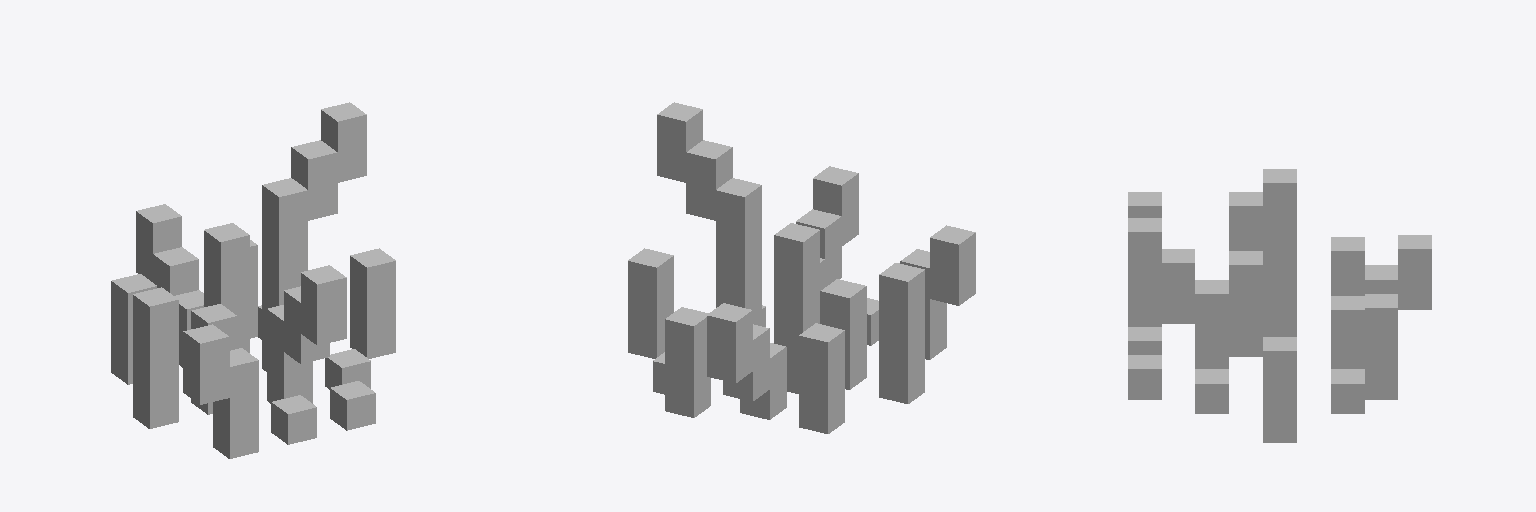
Rendered from Grass.obj.
3 renders of one model, left to right at view 1: azimuth 30°, elevation 25°; view 2: azimuth 150°, elevation 25°; view 3: azimuth 270°, elevation 25°, orthographic.
Visible parts, largest first — view 1: object 1; view 2: object 1; view 3: object 1.
Boxes of the visible parts, x1,y1,x2,y2 form: object 1: [111, 102, 395, 458]; object 1: [628, 102, 975, 433]; object 1: [1128, 169, 1431, 442].
Size of the model in its own units: 0.9 by 0.8 by 0.9.